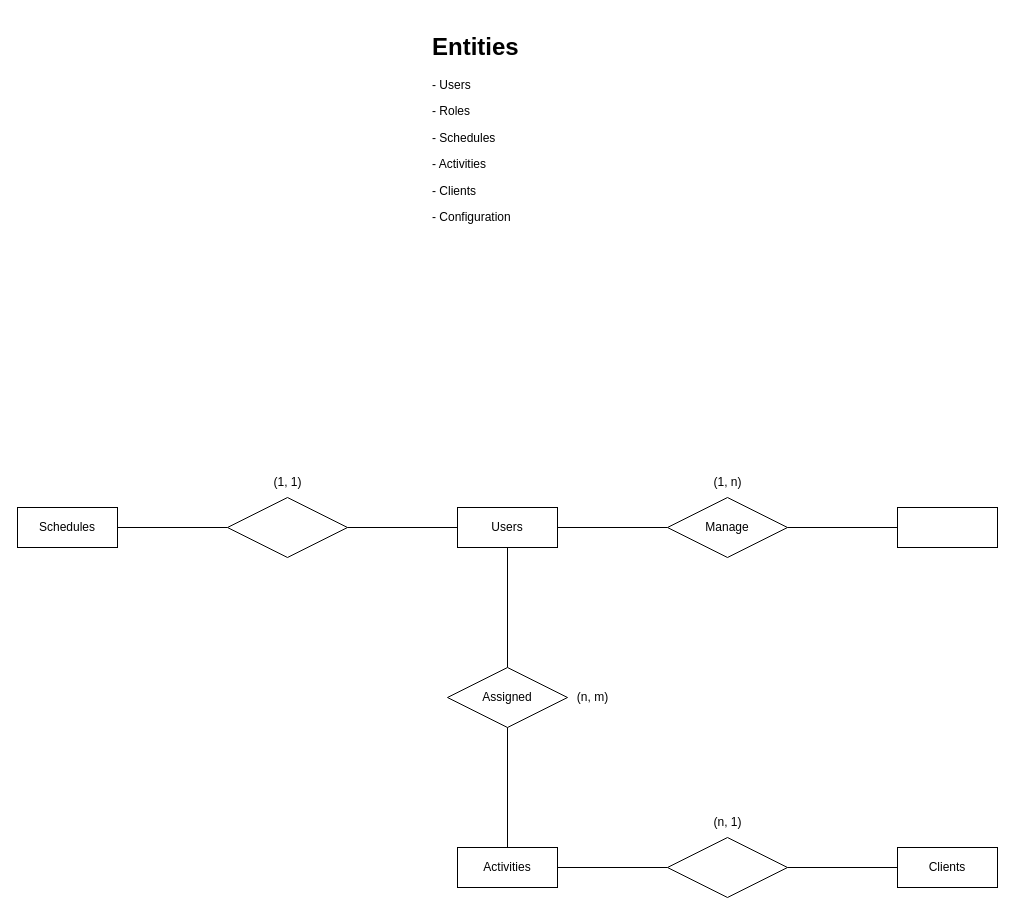
The diagram is 1015 pixels wide and 915 high, and some of its shapes have lost their labels. Each missing label, with the box of its shape:
Grouped by: (666, 836, 788, 898)
Have: (226, 496, 348, 558)
Roles: (896, 506, 998, 548)
